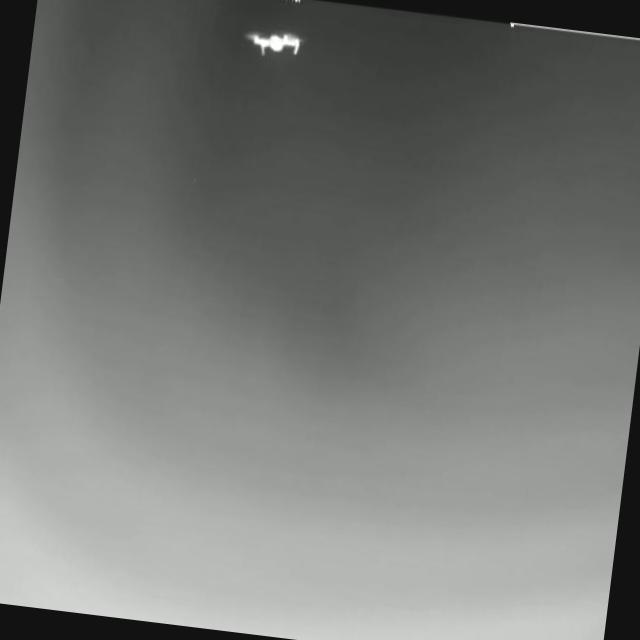DRONE: (241, 27, 309, 58)
